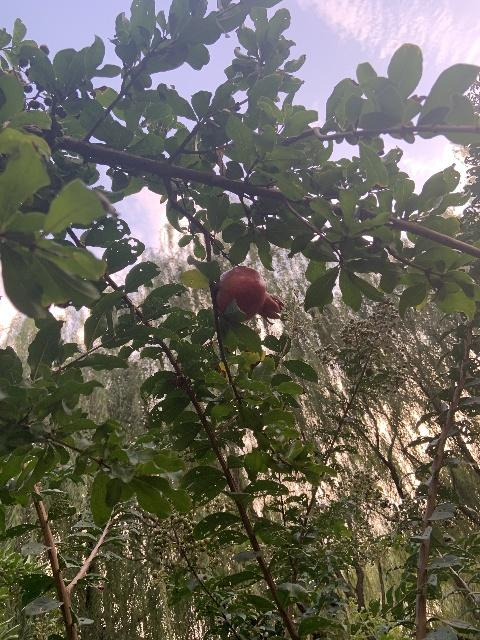ripe: (216, 266, 284, 325)
